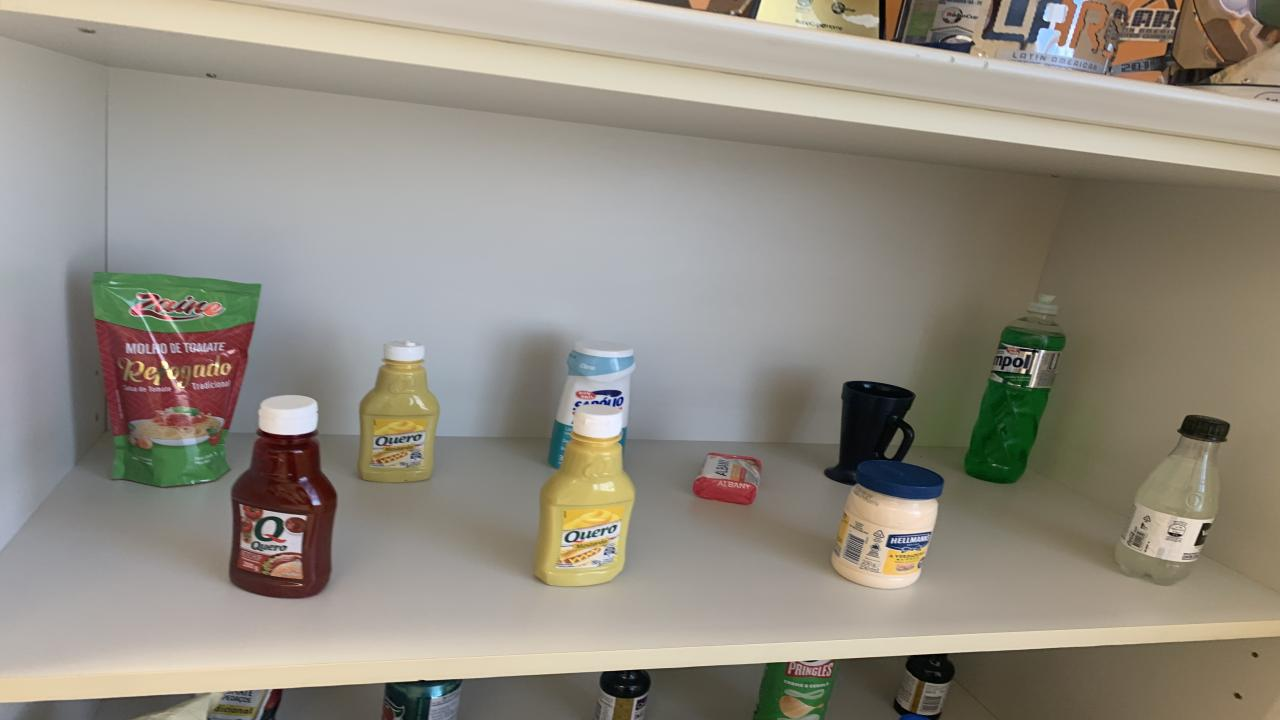Cleaner-Cleanup_Items: (548, 339, 635, 469)
Detergent-Cleanup_Items: (965, 294, 1065, 484)
English_Sauce-Pantry_Items: (892, 654, 955, 720), (595, 669, 650, 720)
Flakes-Snacks: (135, 694, 212, 720)
Guarana_Can-Drinks: (382, 679, 462, 720)
Ketchup-Pantry_Items: (230, 396, 338, 598)
Mayonnaise-Pantry_Items: (832, 459, 945, 589)
Mustard-Pantry_Items: (535, 405, 635, 587), (358, 341, 440, 482)
Pringles-Snacks: (752, 660, 838, 720)
Soap-Cleanup_Items: (692, 452, 760, 504)
Soda-Drinks: (1115, 414, 1230, 585)
Tomato_Sauce-Pantry_Items: (92, 272, 260, 488), (208, 690, 282, 720)
